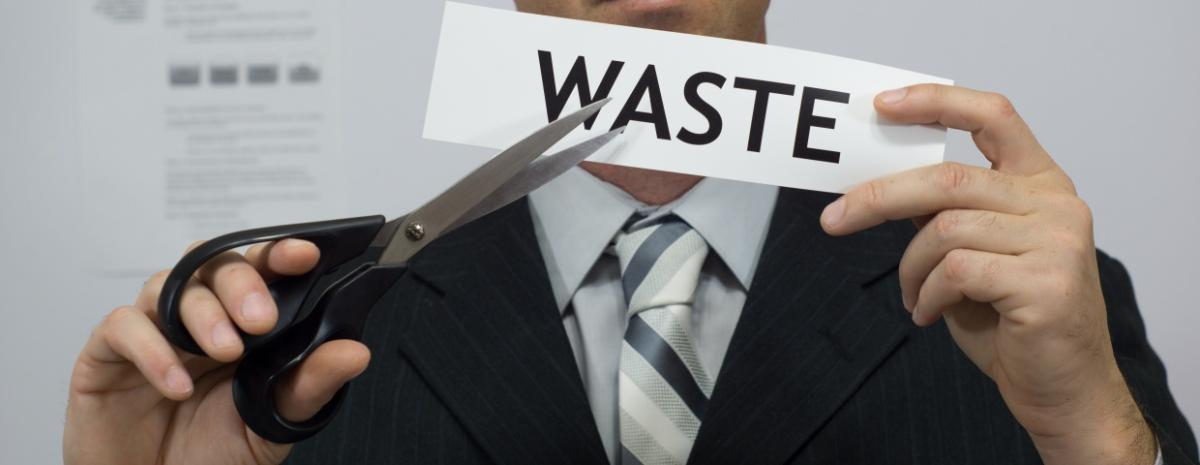paper: (346, 1, 1024, 220)
